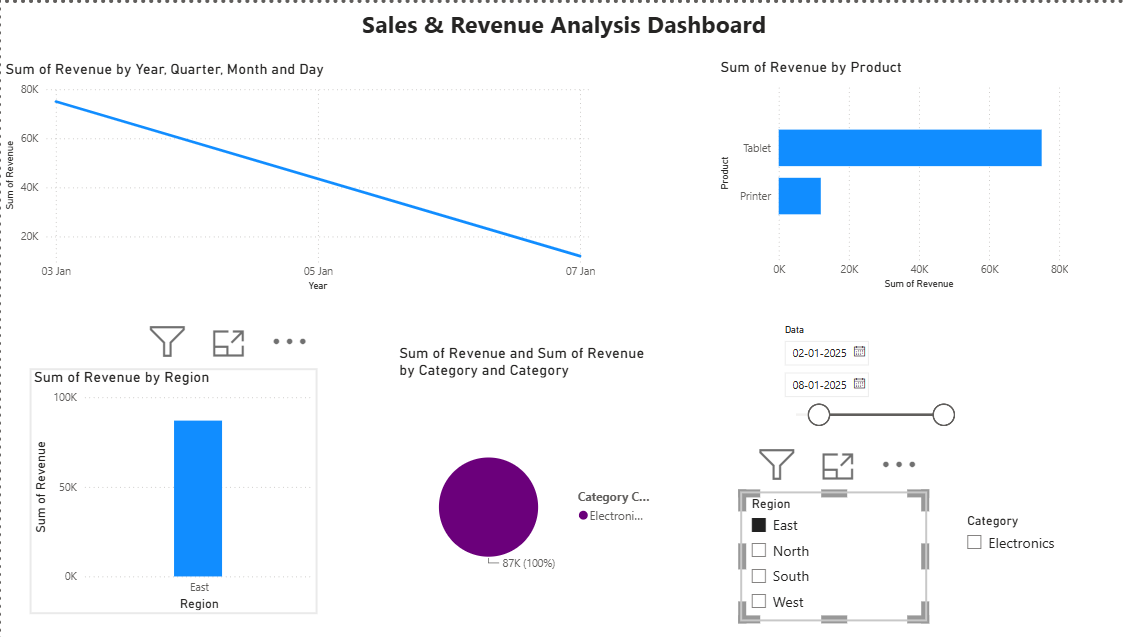

The dashboard page shown, as its layout file describes it:
{"tool":"powerbi","page":{"name":"Page 1","canvas":[1280,720],"ordinal":0},"visuals":[{"type":"pieChart","fields":{"Category":["Sheet1.Category","Sheet1.Category"],"Y":["Sum(Sheet1.Revenue)","Sum(Sheet1.Revenue)"]},"box":[447.5,387.5,300,332.5],"z":2000},{"type":"slicer","fields":{"Values":["Sheet1.Region"]},"box":[840,555,212.5,147.5],"z":3000},{"type":"slicer","fields":{"Values":["Sheet1.Category"]},"box":[1085,575,195,145],"z":4000},{"type":"slicer","fields":{"Values":["Sheet1.Data"]},"box":[877.5,360,215,137.5],"z":5000},{"type":"textbox","box":[195,0,890,62.5],"z":6000},{"type":"lineChart","fields":{"Y":["Sum(Sheet1.Revenue)"],"Category":["Sheet1.Data.Variation.Date Hierarchy.Year","Sheet1.Data.Variation.Date Hierarchy.Quarter","Sheet1.Data.Variation.Date Hierarchy.Month","Sheet1.Data.Variation.Date Hierarchy.Day"]},"box":[0,65,680,267.5],"z":7000},{"type":"clusteredColumnChart","fields":{"Category":["Sheet1.Region"],"Y":["Sum(Sheet1.Revenue)"]},"box":[32.5,415,327.5,280],"z":7001},{"type":"clusteredBarChart","fields":{"Category":["Sheet1.Product"],"Y":["Sum(Sheet1.Revenue)"]},"box":[812.5,62.5,405,267.5],"z":7002}]}

Visuals, with their boxes in screenshot pixels (x1, y1, x2, y2), scaled from the page's 1280x720 canvas onto the 1126x637 screenshot:
pieChart - Sheet1.Category x Sheet1.Category: bbox=(394, 343, 658, 636)
slicer - Sheet1.Region: bbox=(739, 491, 926, 622)
slicer - Sheet1.Category: bbox=(954, 509, 1125, 636)
slicer - Sheet1.Data: bbox=(772, 318, 961, 440)
textbox: bbox=(172, 0, 954, 55)
lineChart - Sum(Sheet1.Revenue) x Sheet1.Data.Variation.Date Hierarchy.Year: bbox=(0, 58, 598, 294)
clusteredColumnChart - Sheet1.Region x Sum(Sheet1.Revenue): bbox=(29, 367, 317, 615)
clusteredBarChart - Sheet1.Product x Sum(Sheet1.Revenue): bbox=(715, 55, 1071, 292)
